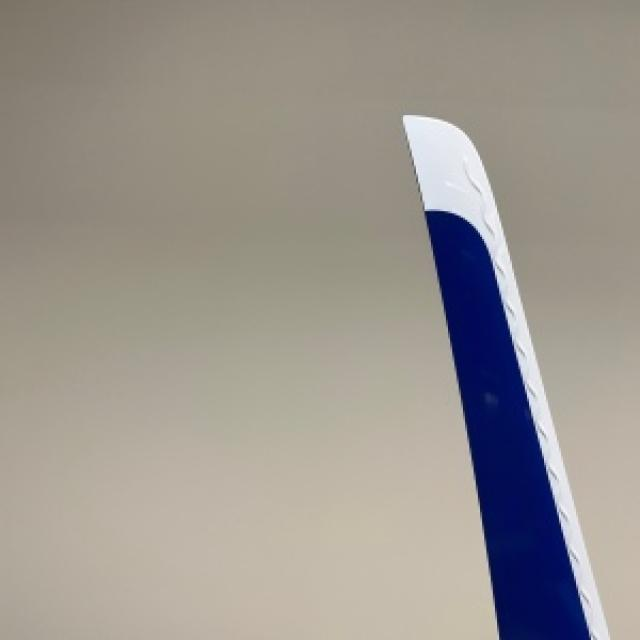healthy: (401, 115, 606, 638)
